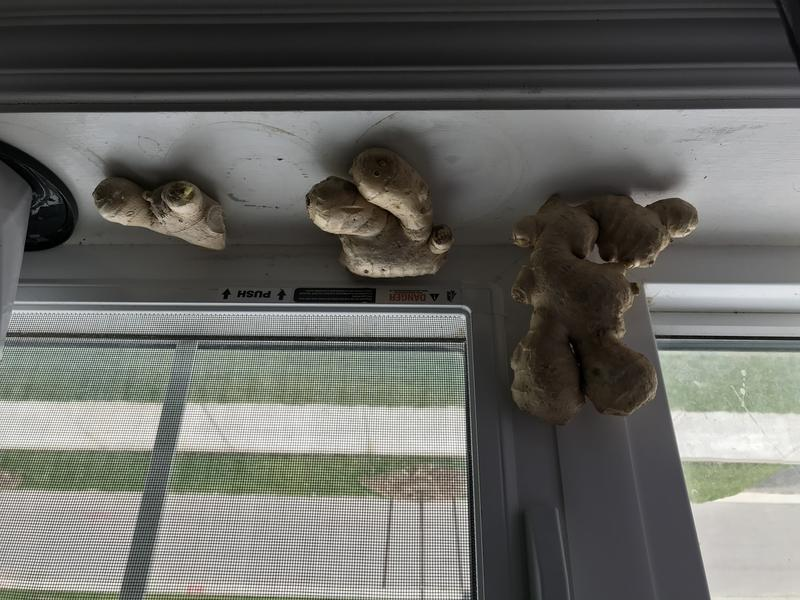ginger: (505, 178, 703, 428), (304, 150, 461, 291), (89, 167, 237, 261)
